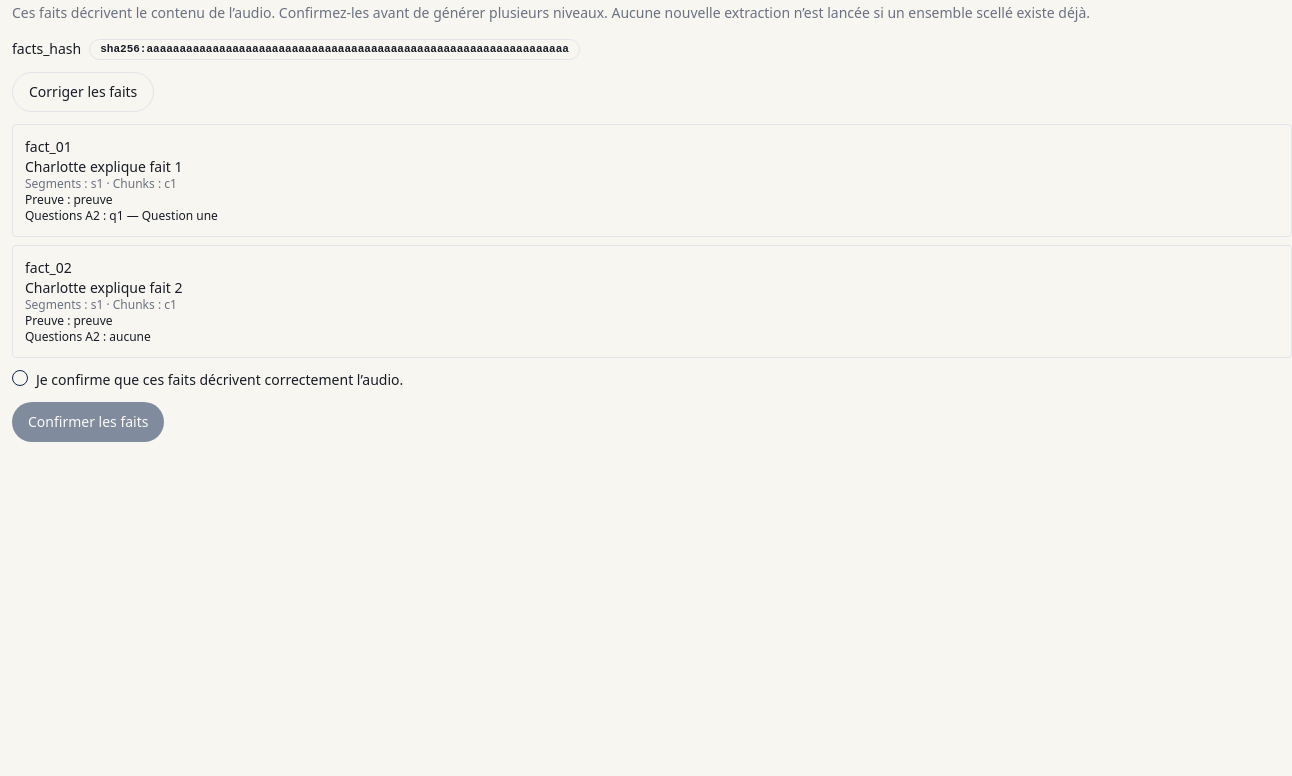
Test: shows references and read-only provenance; prevents referenced removal
This screenshot has width=1292, height=776.
Click the button "Corriger les faits": (83, 92) [12,72,154,112]
(page scrolled)
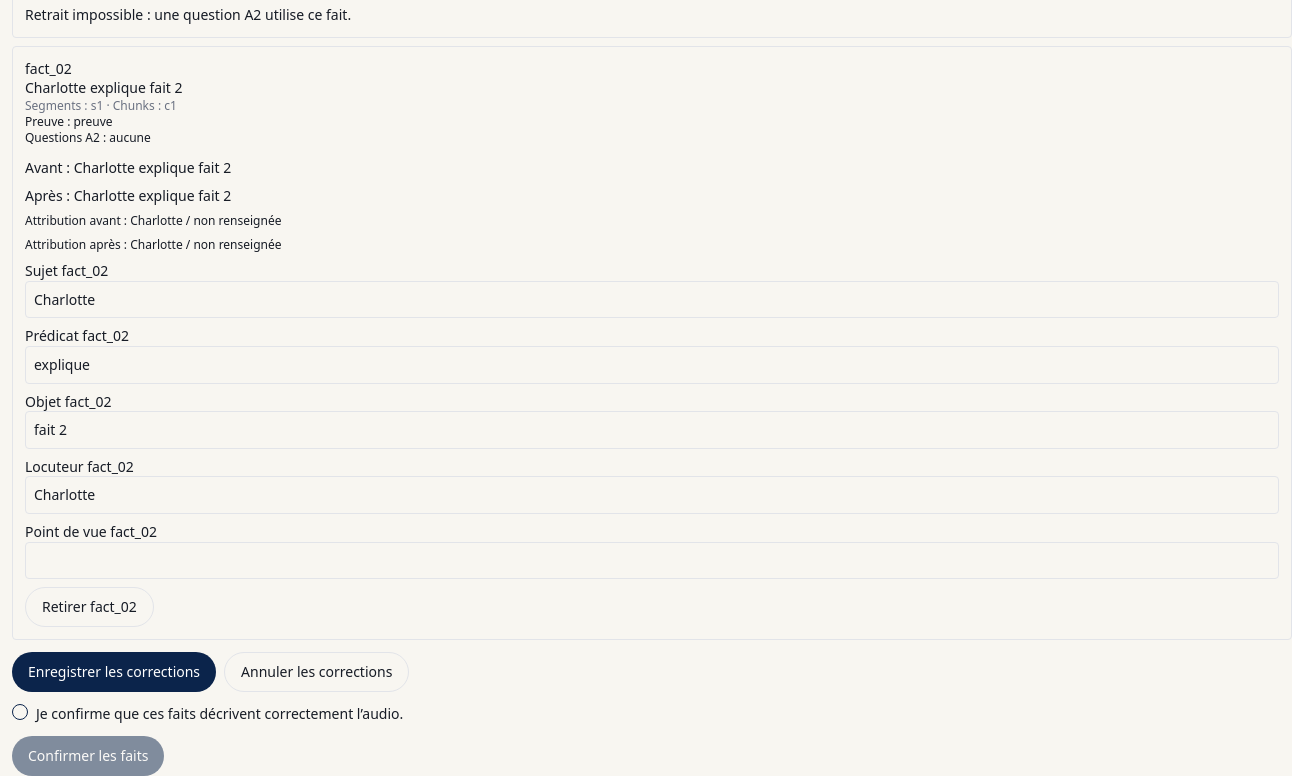
Now the button "Retirer fact_02" is enabled, box [25,587,154,627]
